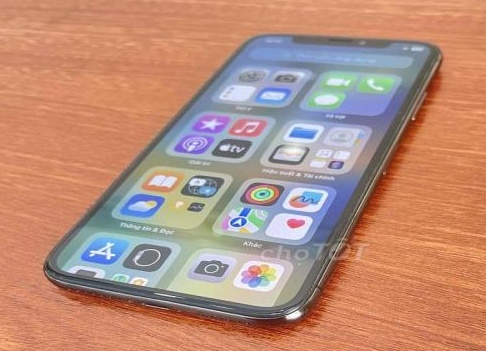scratch: (46, 268, 72, 282)
